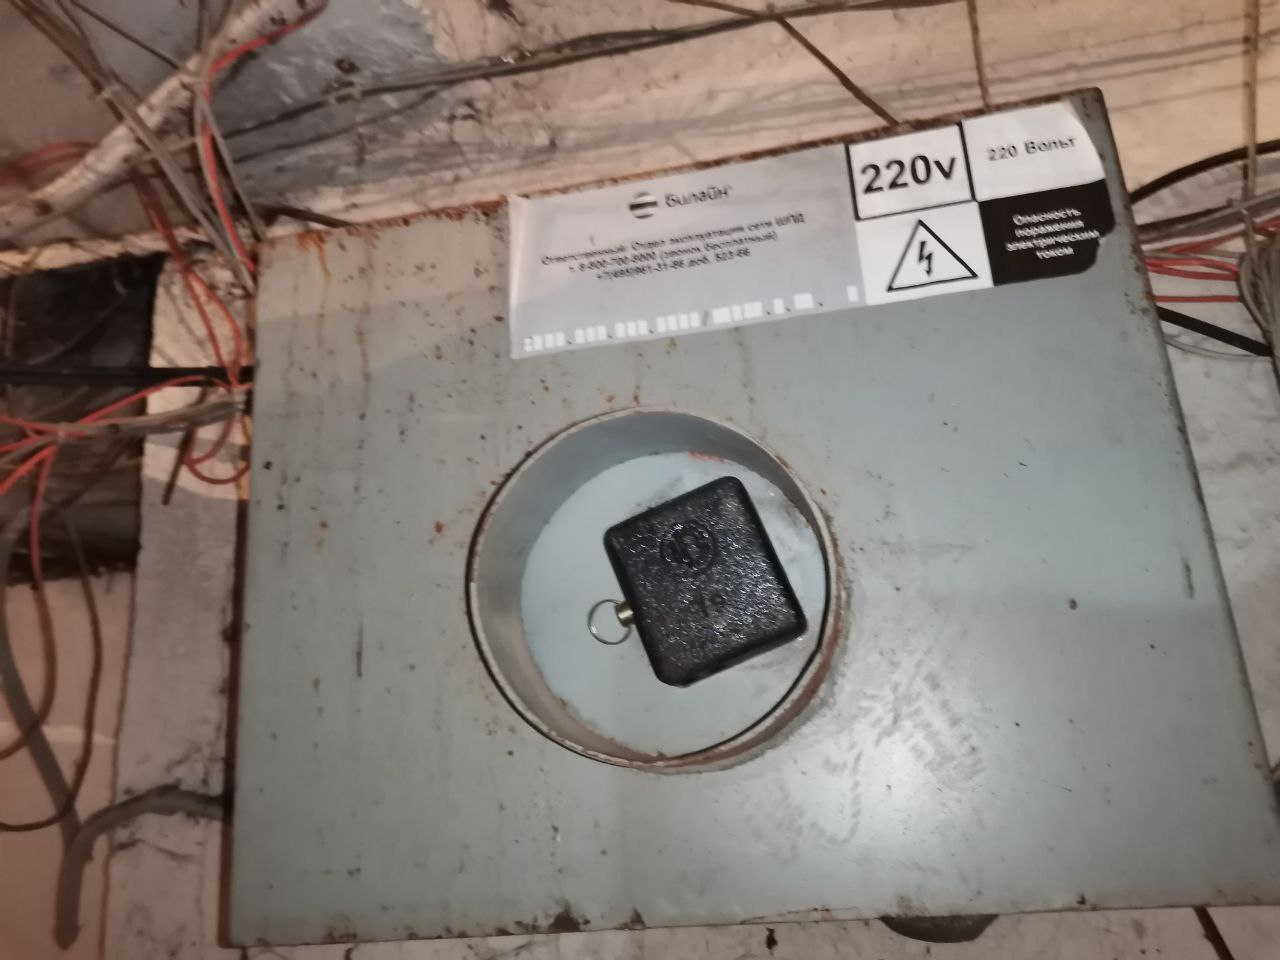shta-3: (220, 76, 1277, 947)
